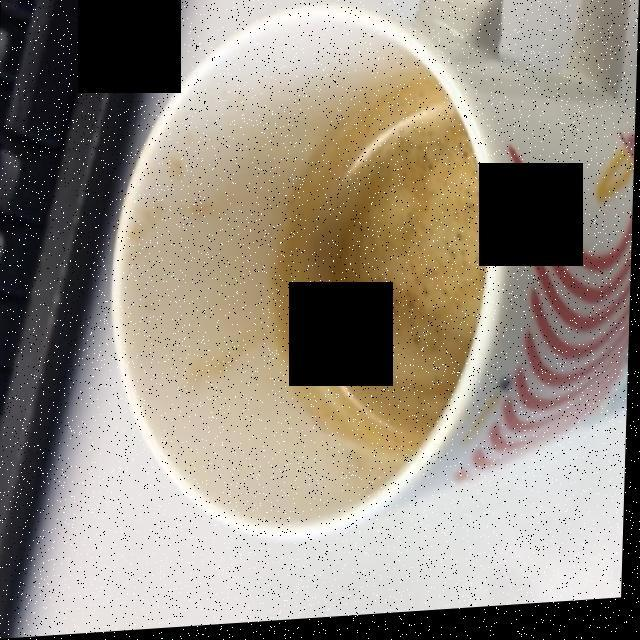coffee: (275, 89, 475, 465)
